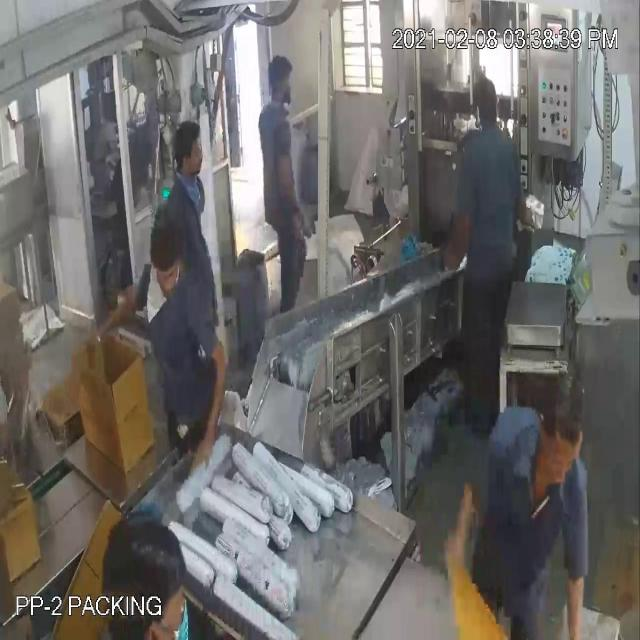No_Gloves: (62, 54, 205, 394)
